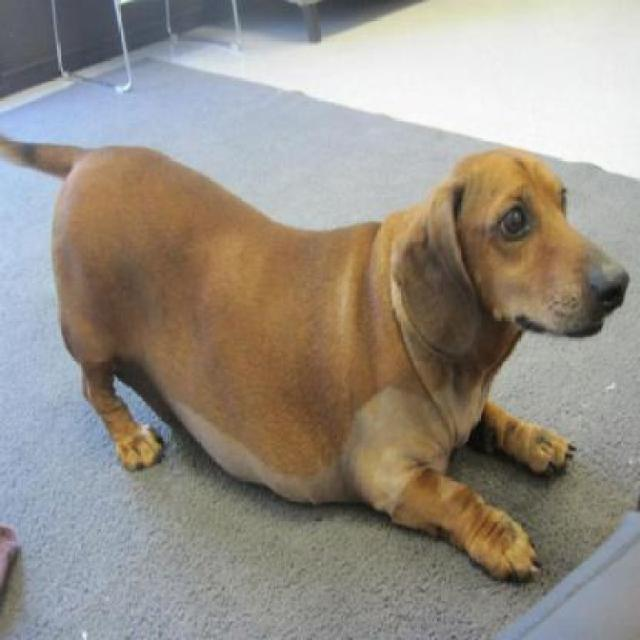Dog: (3, 123, 635, 589)
